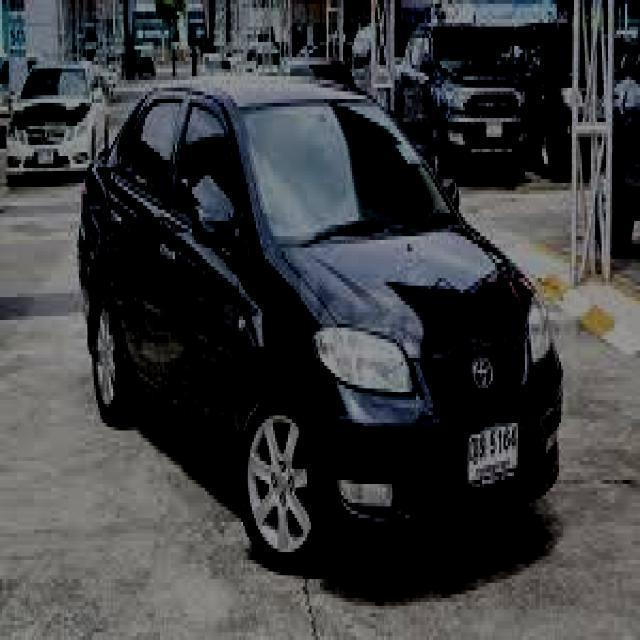ToyotaVios: (76, 77, 564, 563)
